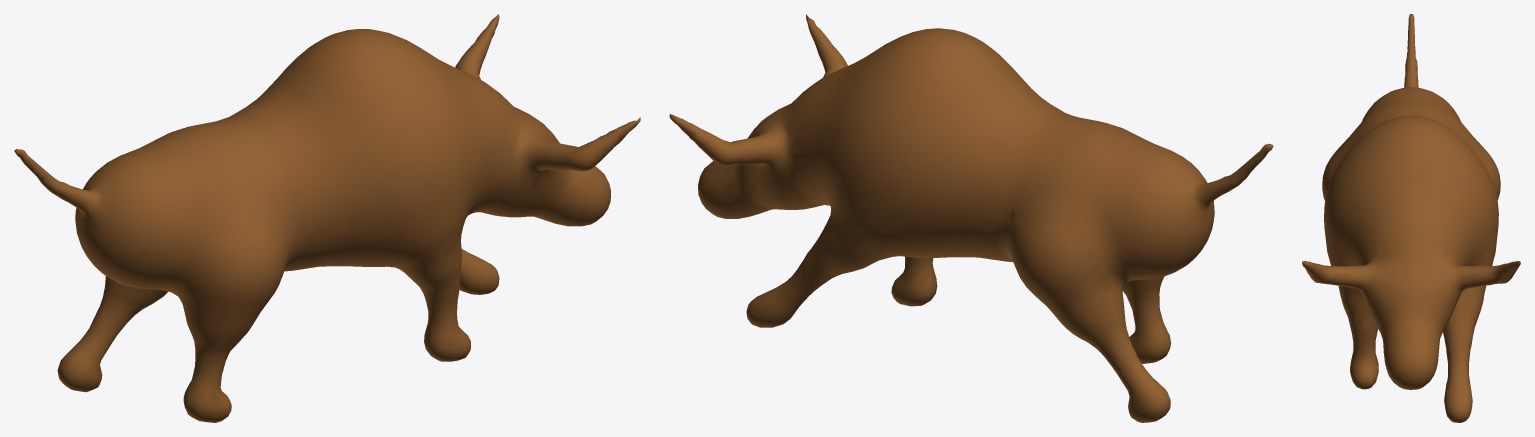
Rendered from bull.glb.
The picture shows the model from 3 angles, left to right: view 1: azimuth 30°, elevation 25°; view 2: azimuth 150°, elevation 25°; view 3: azimuth 270°, elevation 25°; orthographic projection. The views are drawn at different scales.
Parts seen in each view (by area): view 1: Bull.001; view 2: Bull.001; view 3: Bull.001.
Boxes of the visible parts, box(x1,y1,x2,y2) form: Bull.001: box(14, 14, 640, 422); Bull.001: box(669, 14, 1273, 422); Bull.001: box(1302, 14, 1520, 422).
Size of the model in its own units: 3.58 by 1.84 by 1.49.
